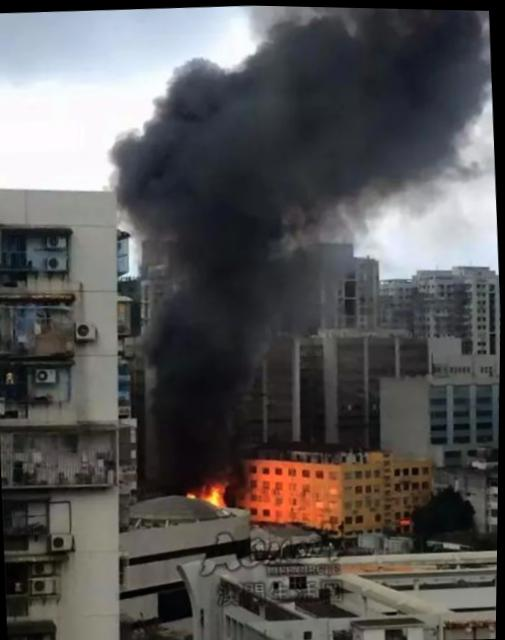fire: (203, 480, 227, 508), (183, 487, 197, 496)
